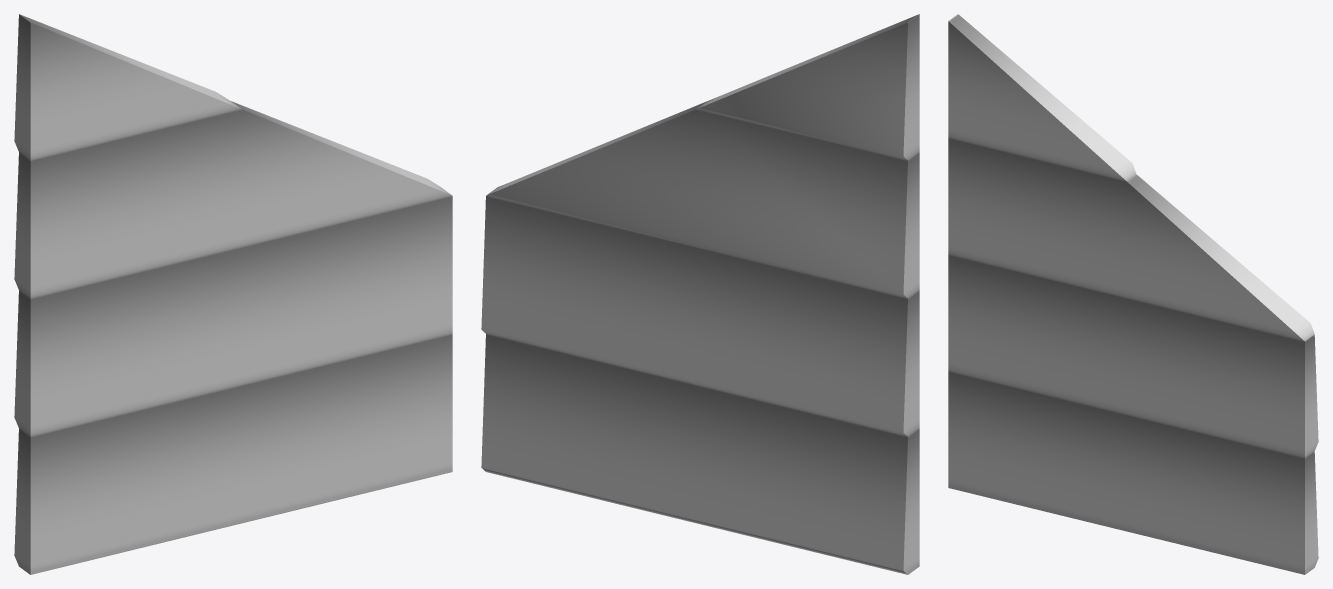
File: Wall_Exterior_Angled_2.fbx
3 views of the same model, side by side, from view 1: azimuth 30°, elevation 25°; view 2: azimuth 150°, elevation 25°; view 3: azimuth 330°, elevation 25° (orthographic). The views are drawn at different scales.
Visible parts, largest first — view 1: Wall_Exterior_Angled_2; view 2: Wall_Exterior_Angled_2; view 3: Wall_Exterior_Angled_2.
Boxes of the visible parts, <box> form: Wall_Exterior_Angled_2: <box>14,14,452,574</box>; Wall_Exterior_Angled_2: <box>481,14,919,574</box>; Wall_Exterior_Angled_2: <box>948,14,1318,574</box>.
Bounding box in the file's own units: 1 × 1.25 × 0.066.
